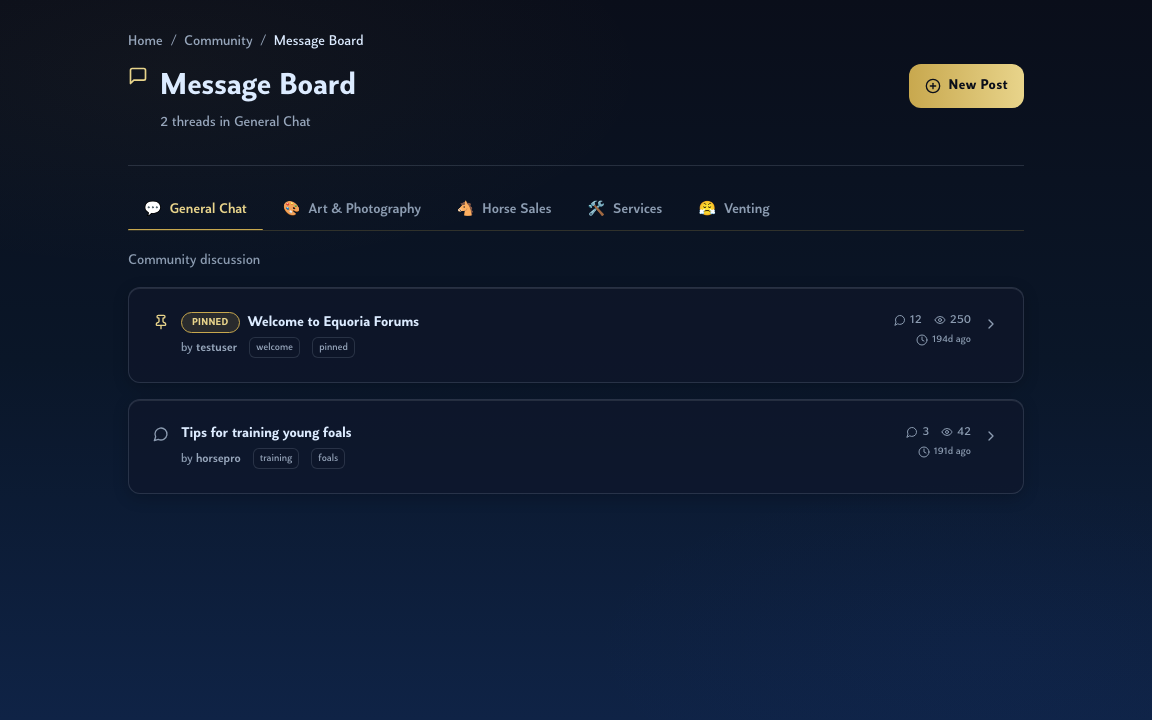
Test: MessageBoardPage — section tab switching (Equoria-o5hub.30) › switching to a section with no threads shows the honest empty state
Expected: the heading "Welcome to Equoria Forums" is shown, [248,312,419,332]
Note: The default handler has no 'venting' threads.
Click the tab with test id "section-tab-venting".
click(734, 210)  # box [682,190,786,230]
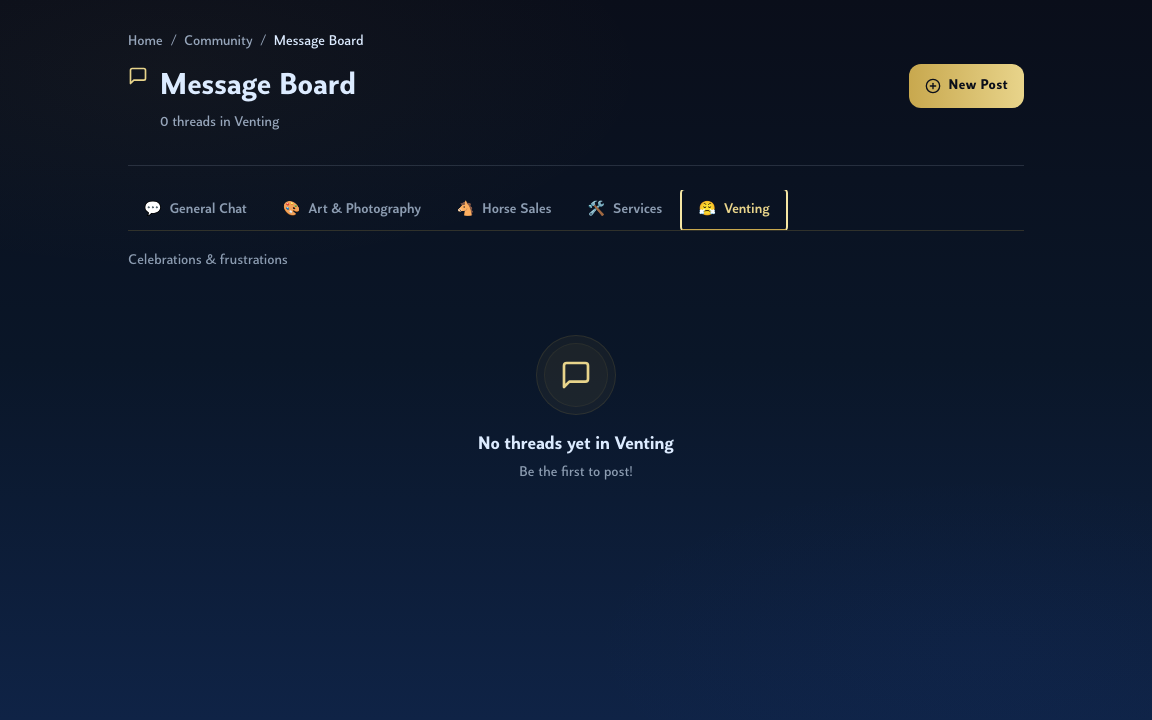
Expected: the heading "No threads yet in Venting" is shown, [478,431,674,458]
